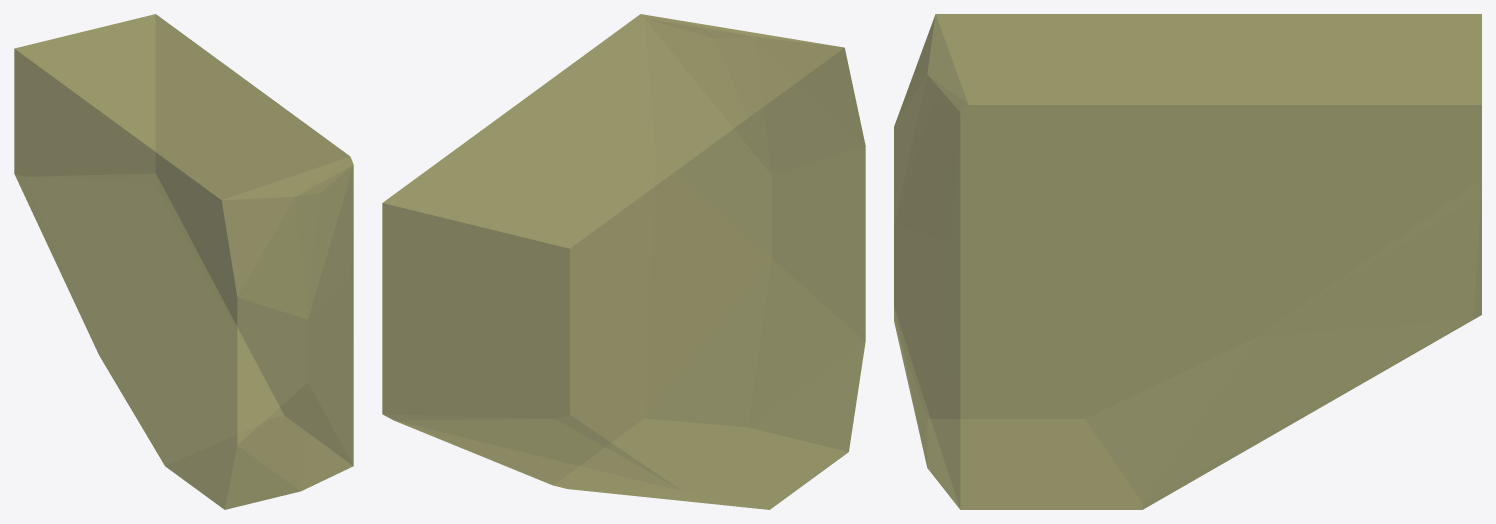
3 renders of one model, left to right at view 1: azimuth 30°, elevation 25°; view 2: azimuth 150°, elevation 25°; view 3: azimuth 270°, elevation 25°, orthographic. The views are drawn at different scales.
Parts seen in each view (by area): view 1: Shape_IndexedFaceSet.006_Shape_IndexedFaceSet.17581; view 2: Shape_IndexedFaceSet.006_Shape_IndexedFaceSet.17581; view 3: Shape_IndexedFaceSet.006_Shape_IndexedFaceSet.17581.
Boxes of the visible parts, left/top/right/bottom form: Shape_IndexedFaceSet.006_Shape_IndexedFaceSet.17581: left=14, top=14, right=353, bottom=509; Shape_IndexedFaceSet.006_Shape_IndexedFaceSet.17581: left=382, top=14, right=865, bottom=509; Shape_IndexedFaceSet.006_Shape_IndexedFaceSet.17581: left=894, top=14, right=1481, bottom=509.
Size of the model in its own units: 0.0458 by 0.0951 by 0.1251.
